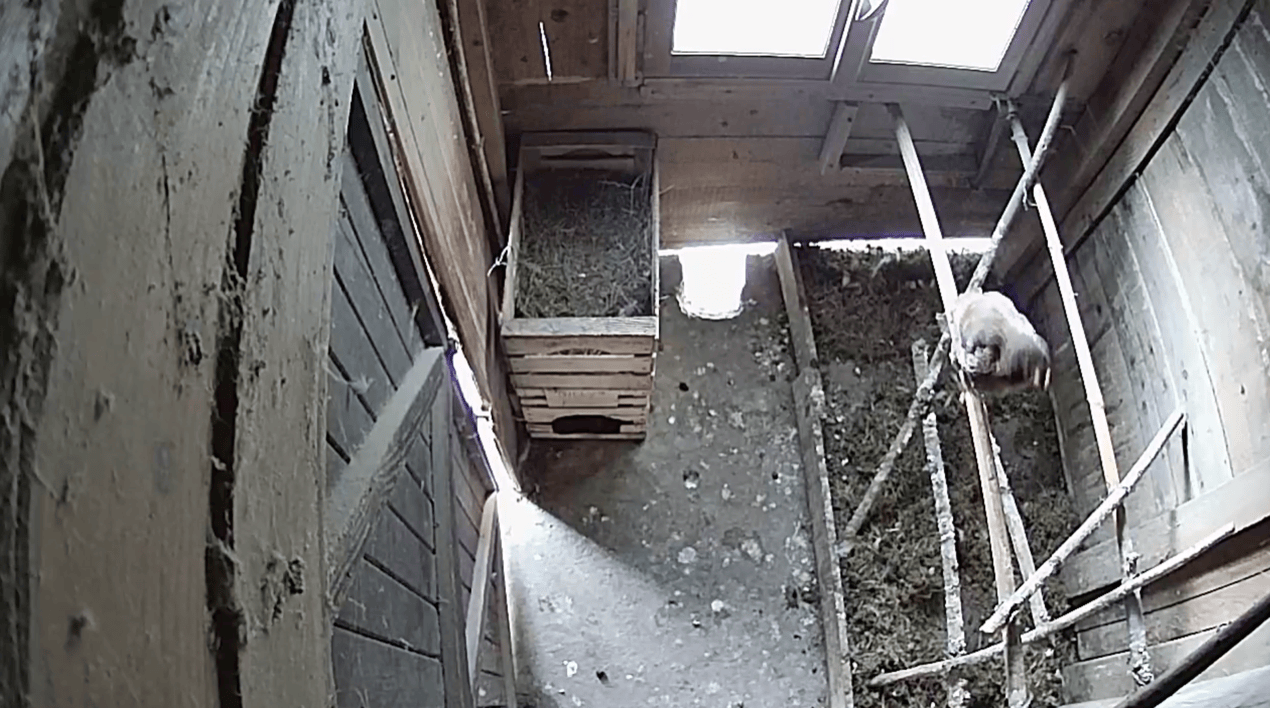chicken: (936, 279, 1058, 411)
